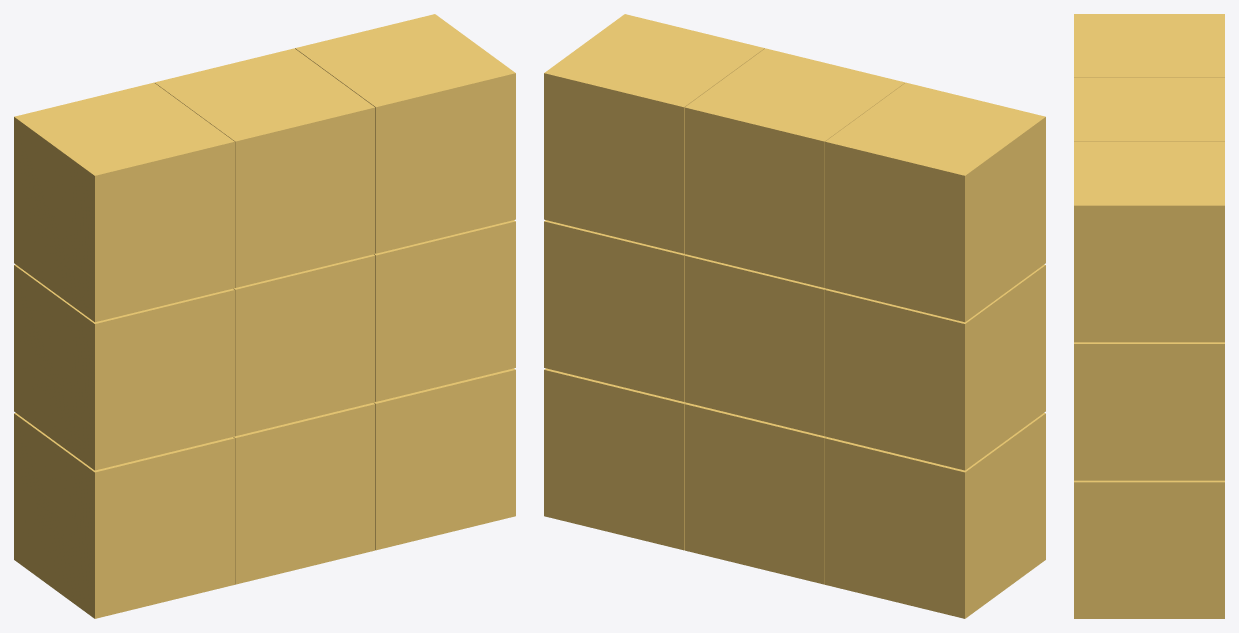
File: Level1-5.BreakableCubes.fbx
The picture shows the model from 3 angles, left to right: view 1: azimuth 30°, elevation 25°; view 2: azimuth 150°, elevation 25°; view 3: azimuth 270°, elevation 25°; orthographic projection. The views are drawn at different scales.
Visible parts, largest first — view 1: Cube.016, Cube.010, Cube.013, Cube.017, Cube.015, Cube.009, Cube.011, Cube.012, Cube.014; view 2: Cube.016, Cube.010, Cube.013, Cube.017, Cube.015, Cube.009, Cube.011, Cube.012, Cube.014; view 3: Cube.017, Cube.011, Cube.014, Cube.015, Cube.016.
Part boxes in pixels (box(x1,y1,x2,y2)): Cube.016: box(14, 82, 234, 322); Cube.010: box(14, 413, 234, 618); Cube.013: box(14, 264, 234, 470); Cube.017: box(295, 14, 515, 253); Cube.015: box(154, 48, 375, 287); Cube.009: box(233, 402, 375, 584); Cube.011: box(374, 368, 515, 550); Cube.012: box(233, 254, 375, 436); Cube.014: box(374, 220, 515, 401); Cube.016: box(825, 82, 1045, 322); Cube.010: box(825, 413, 1045, 618); Cube.013: box(825, 264, 1045, 470); Cube.017: box(544, 14, 764, 253); Cube.015: box(684, 48, 905, 287); Cube.009: box(684, 402, 826, 584); Cube.011: box(544, 368, 685, 550); Cube.012: box(684, 254, 826, 436); Cube.014: box(544, 220, 685, 401); Cube.017: box(1074, 142, 1224, 342); Cube.011: box(1074, 480, 1224, 618); Cube.014: box(1074, 342, 1224, 480); Cube.015: box(1074, 78, 1224, 141); Cube.016: box(1074, 14, 1224, 77).
Size of the model in its own units: 602 by 605 by 200.
